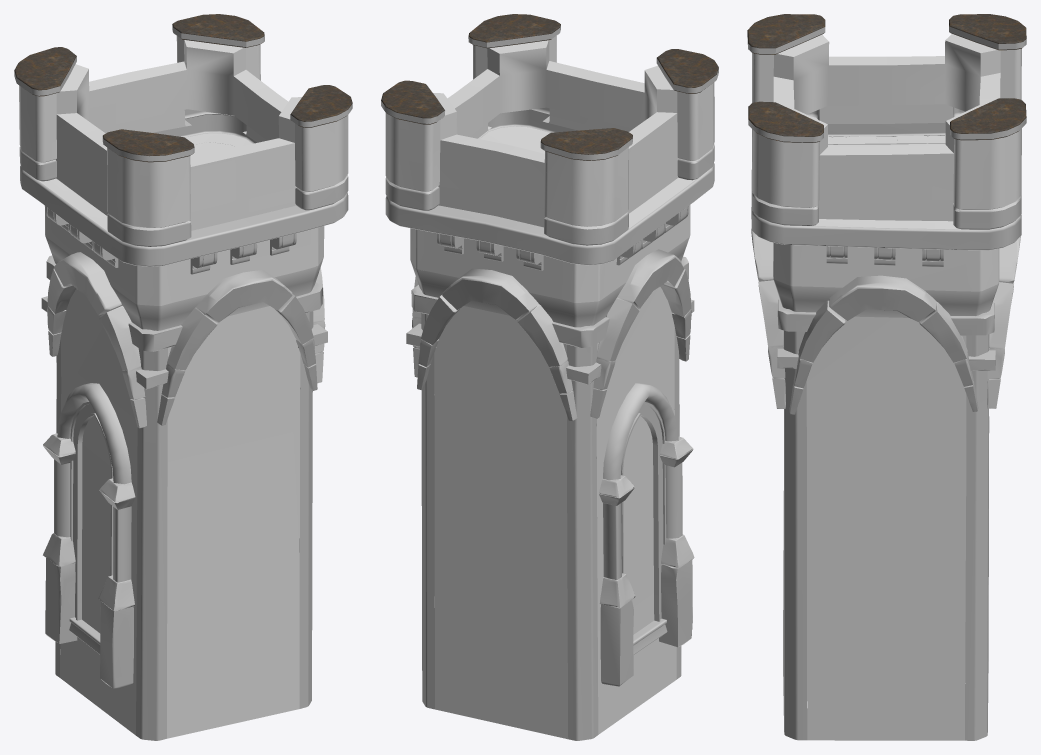
3 views of the same model, side by side, from view 1: azimuth 30°, elevation 25°; view 2: azimuth 150°, elevation 25°; view 3: azimuth 270°, elevation 25° (orthographic). The views are drawn at different scales.
Visible parts, largest first — view 1: SM_DR_Gateway_Top_Tower_LOD0; view 2: SM_DR_Gateway_Top_Tower_LOD0; view 3: SM_DR_Gateway_Top_Tower_LOD0.
Boxes of the visible parts, box(x1,y1,x2,y2) form: SM_DR_Gateway_Top_Tower_LOD0: box(14, 14, 352, 740); SM_DR_Gateway_Top_Tower_LOD0: box(381, 14, 718, 740); SM_DR_Gateway_Top_Tower_LOD0: box(747, 14, 1026, 740).
Size of the model in its own units: 8.25 by 20.44 by 8.22.
